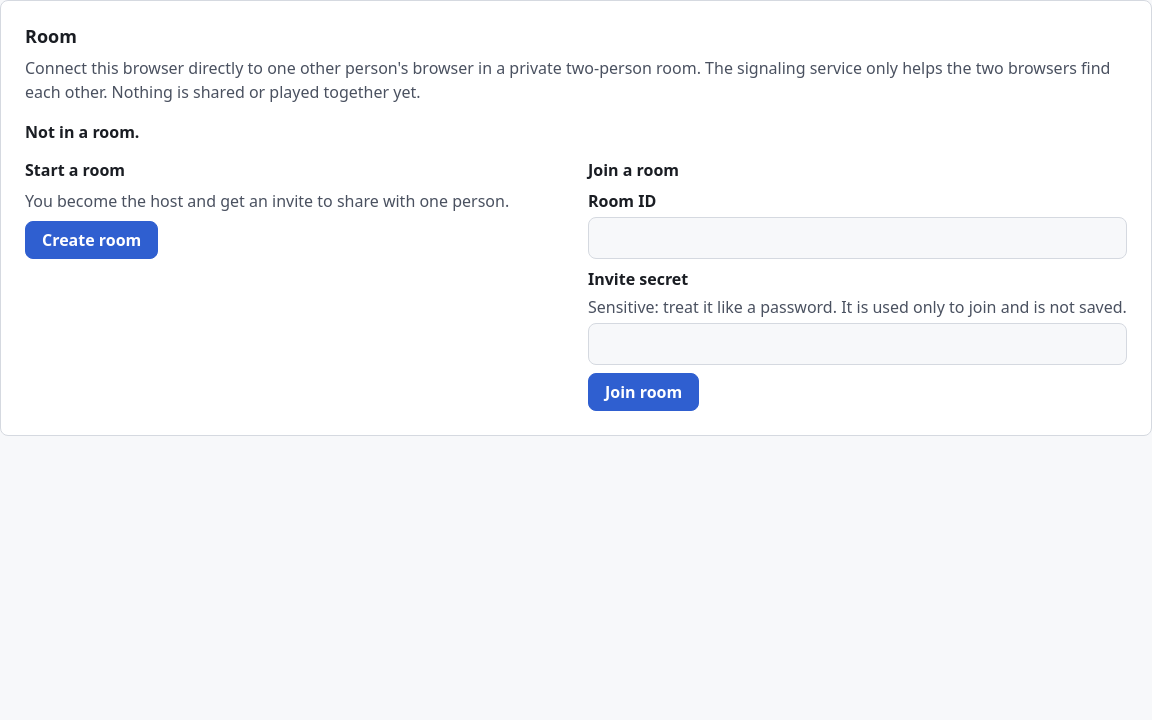
Test: RoomPanel › copies the secret through the clipboard without revealing it
Click the button "Create room": x=92, y=240 [25,221,158,259]
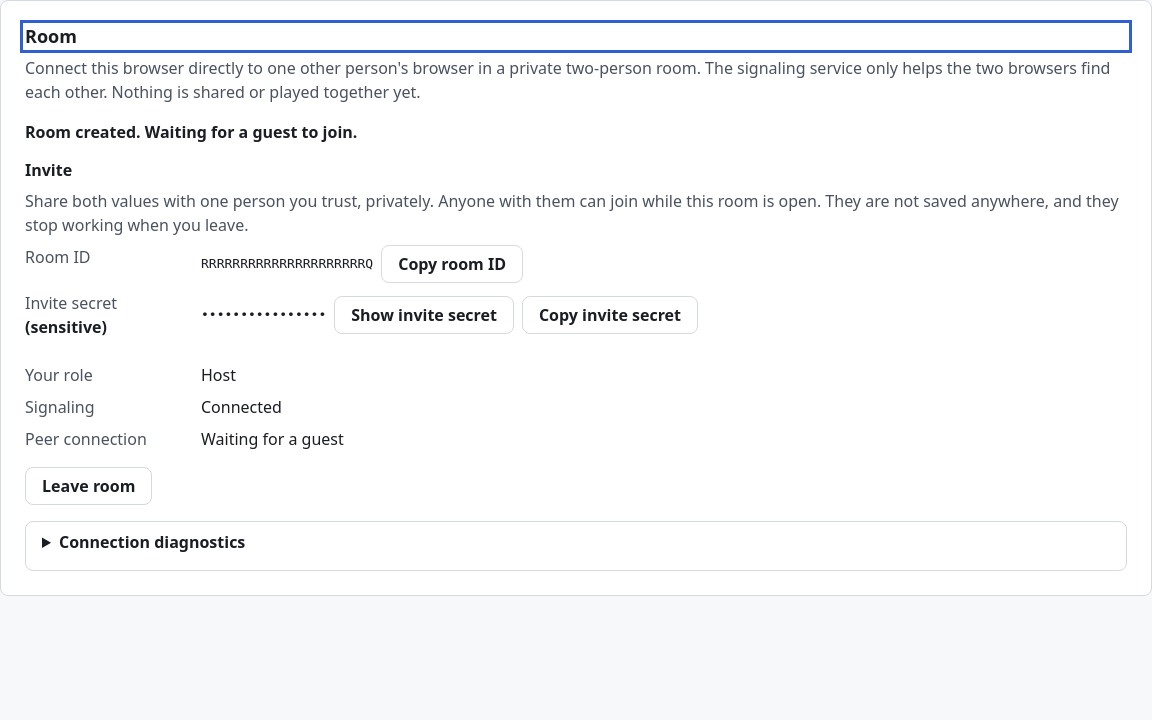
Click the button "Copy invite secret": x=610, y=315 [522,296,698,334]
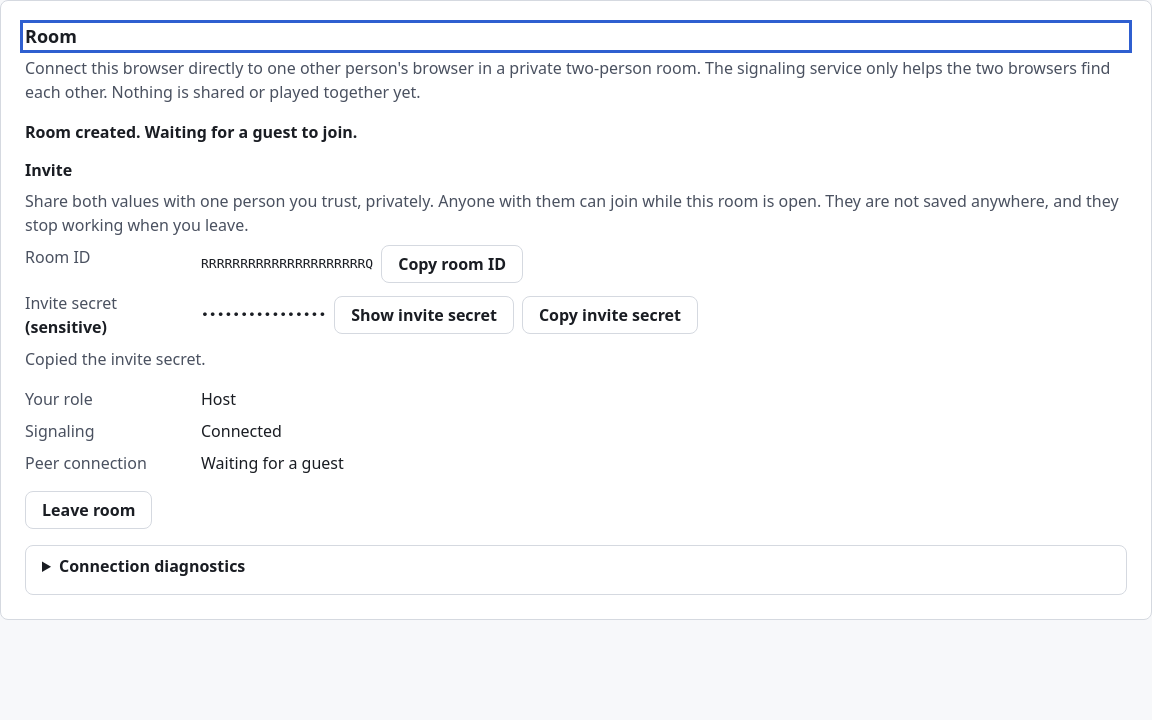
Result: the element "Invite" shows "Copied the invite secret." at [25,348,206,370]
